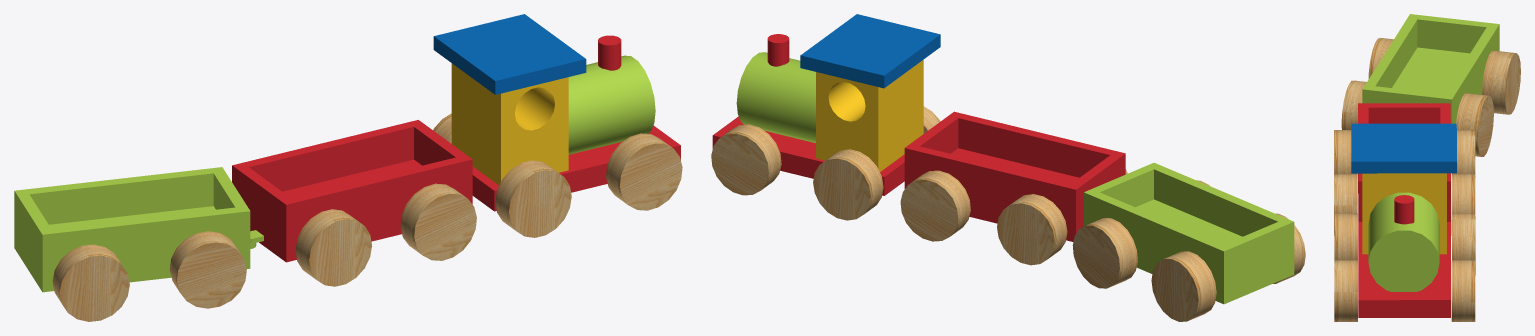
The model's file is Train.FBX.
3 views of the same model, side by side, from view 1: azimuth 30°, elevation 25°; view 2: azimuth 150°, elevation 25°; view 3: azimuth 270°, elevation 25° (orthographic). The views are drawn at different scales.
Parts seen in each view (by area): view 1: train; view 2: train; view 3: train.
Boxes of the visible parts, <box> form: train: <box>14,14,682,321</box>; train: <box>711,14,1305,321</box>; train: <box>1334,14,1520,321</box>.
Bounding box in the file's own units: 64.62 × 15.93 × 20.06.
